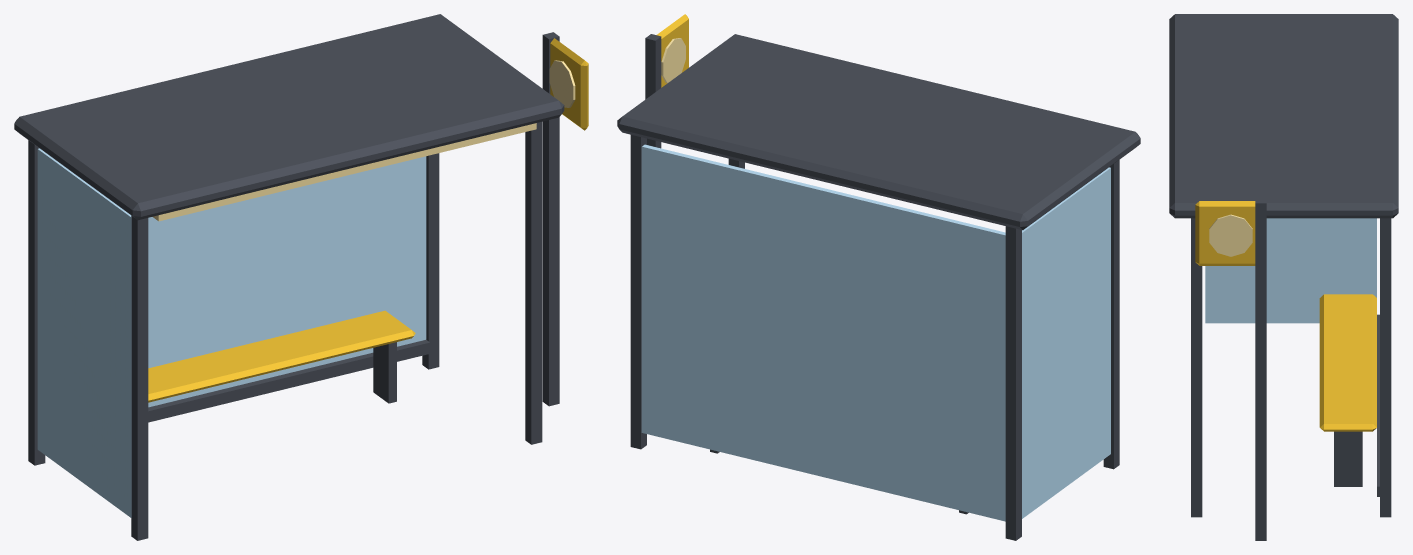
The model's file is bus-stop.glb.
3 renders of one model, left to right at view 1: azimuth 30°, elevation 25°; view 2: azimuth 150°, elevation 25°; view 3: azimuth 270°, elevation 25°, orthographic. The views are drawn at different scales.
Parts seen in each view (by area): view 1: bus_stop; view 2: bus_stop; view 3: bus_stop.
Boxes of the visible parts, x1,y1,x2,y2 form: bus_stop: (14, 14, 588, 540); bus_stop: (617, 14, 1140, 540); bus_stop: (1169, 14, 1398, 540).
Size of the model in its own units: 3.5 by 2.6 by 1.6.
